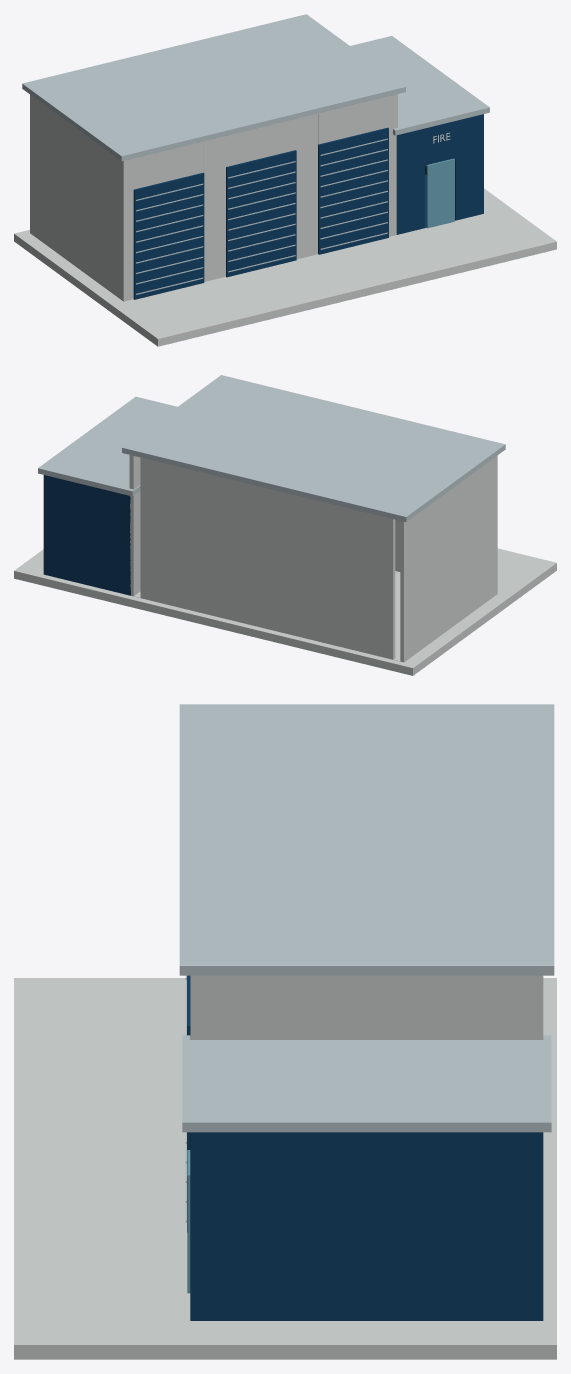
The model's file is edited.glb.
3 views of the same model, one above another, from view 1: azimuth 30°, elevation 25°; view 2: azimuth 150°, elevation 25°; view 3: azimuth 270°, elevation 25° (orthographic). The views are drawn at different scales.
Visible parts, largest first — view 1: ROOF_Hall, APRON, APPLIANCE_Hall_Side.001, BAY_Shutter.001, BAY_Shutter, BAY_Shutter.002, ROOF_Office, APPLIANCE_Hall_FrontPier.002, APPLIANCE_Hall_FrontPier.003, OFFICE_FrontPier.001, OFFICE_FrontPier, APPLIANCE_Hall_EntryHeader.001 (+7 smaller); view 2: APPLIANCE_Hall_Back, ROOF_Hall, APPLIANCE_Hall_Side.001, APRON, OFFICE_Back, ROOF_Office, APPLIANCE_Hall_Side, APPLIANCE_Hall_Floor; view 3: ROOF_Hall, APRON, OFFICE_Side.001, ROOF_Office, APPLIANCE_Hall_Side, OFFICE_FrontPier.001, OFFICE_Back, OFFICE_Roof.
Boxes of the visible parts, x1,y1,x2,y2 form: ROOF_Hall: (22,14,405,161); APRON: (14,188,556,346); APPLIANCE_Hall_Side.001: (30,94,127,300); BAY_Shutter.001: (133,172,204,299); BAY_Shutter: (318,127,388,254); BAY_Shutter.002: (226,150,296,277); ROOF_Office: (350,36,489,135); APPLIANCE_Hall_FrontPier.002: (203,136,225,281); APPLIANCE_Hall_FrontPier.003: (295,113,317,258); OFFICE_FrontPier.001: (455,115,483,220); OFFICE_FrontPier: (400,128,424,233); APPLIANCE_Hall_EntryHeader.001: (133,141,203,189); APPLIANCE_Hall_Back: (140,457,395,659); ROOF_Hall: (122,375,505,521); APPLIANCE_Hall_Side.001: (400,456,497,661); APRON: (14,548,556,675); OFFICE_Back: (43,475,130,595); ROOF_Office: (38,396,177,496); APPLIANCE_Hall_Side: (129,455,140,596); APPLIANCE_Hall_Floor: (134,571,490,662); ROOF_Hall: (179,704,554,975); APRON: (14,978,556,1359); OFFICE_Side.001: (190,1132,542,1320); ROOF_Office: (182,1035,551,1132); APPLIANCE_Hall_Side: (190,975,543,1039); OFFICE_FrontPier.001: (190,1132,198,1320); OFFICE_Back: (535,1132,543,1320); OFFICE_Roof: (199,1132,541,1134).
Size of the model in its own units: 16 by 6 by 10.
